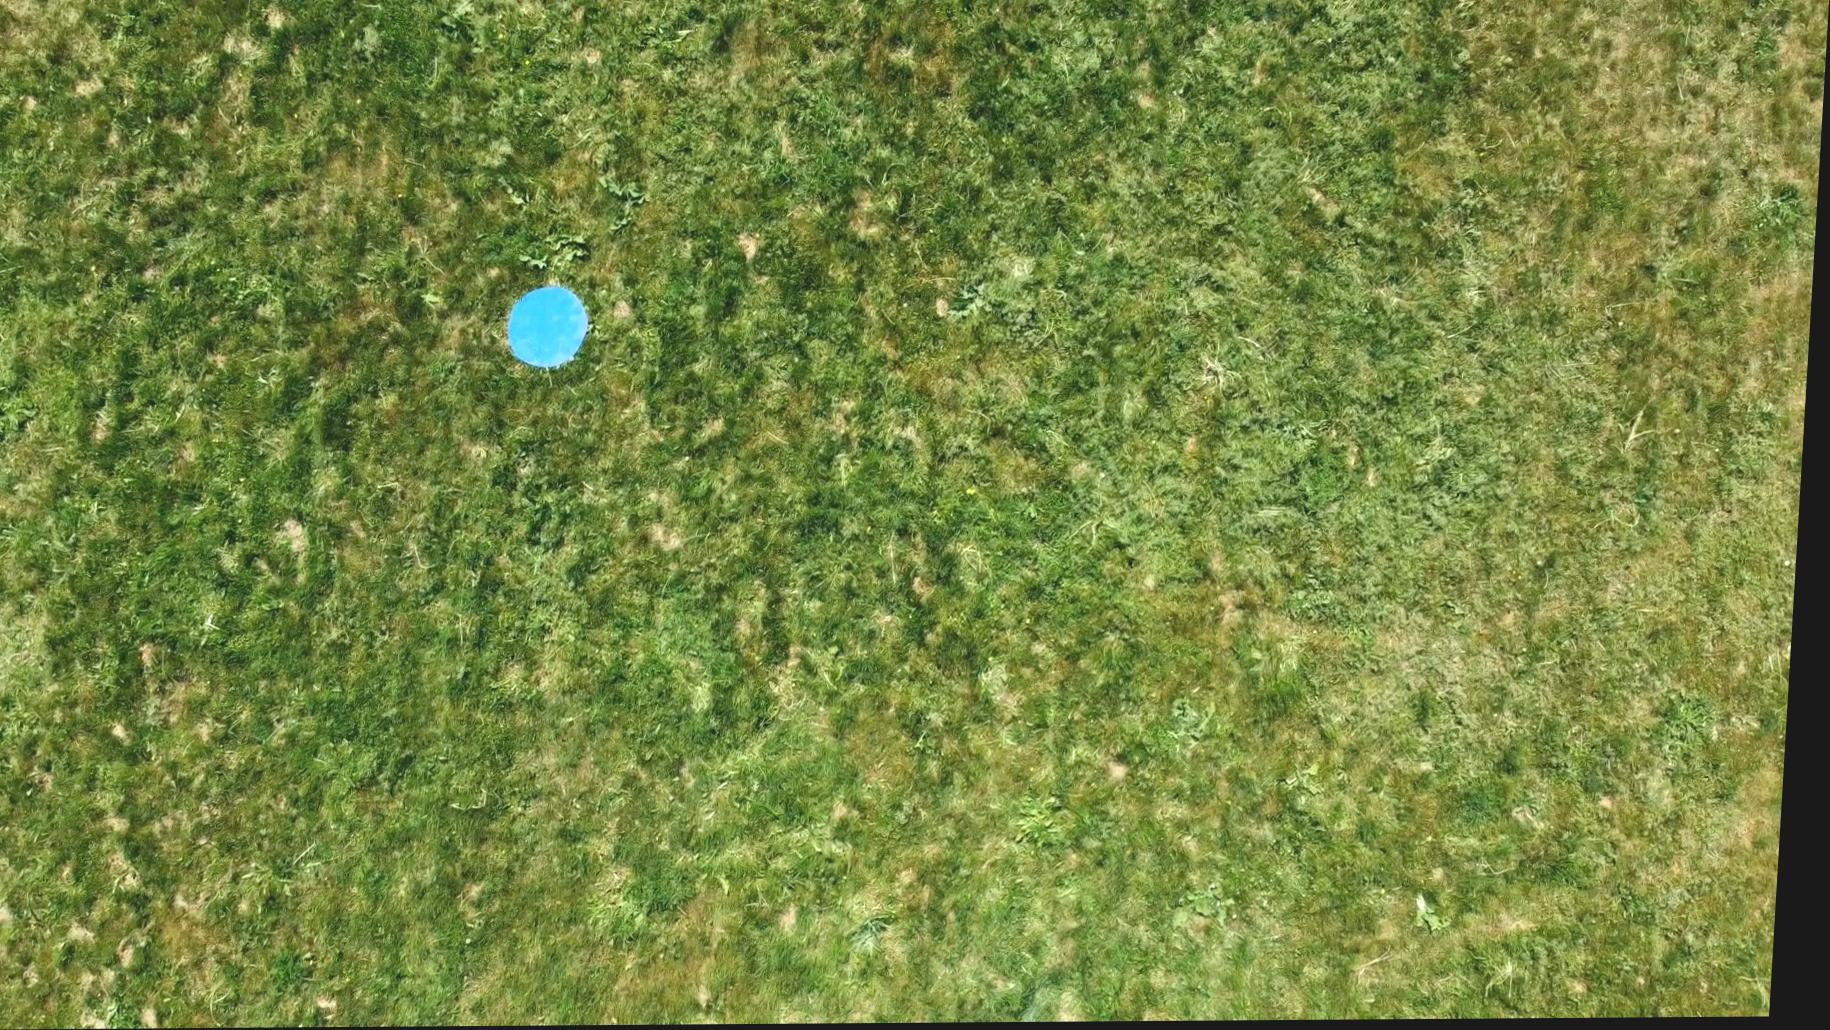Blue: (507, 284, 601, 371)
